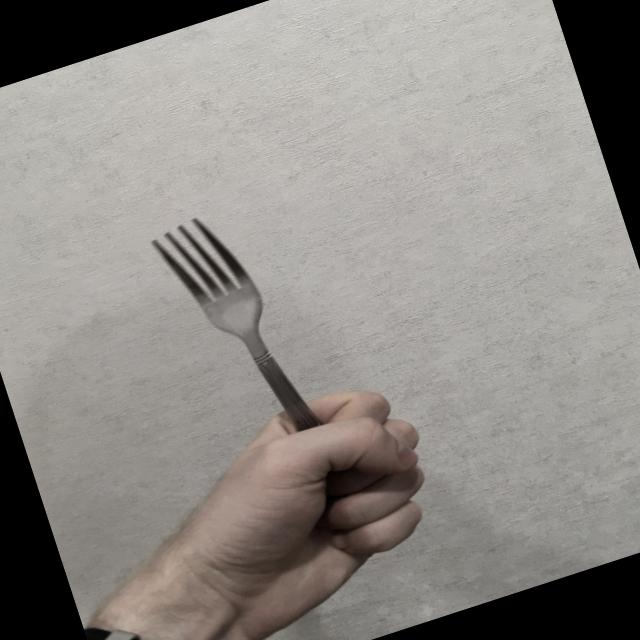fork: (146, 198, 354, 536)
